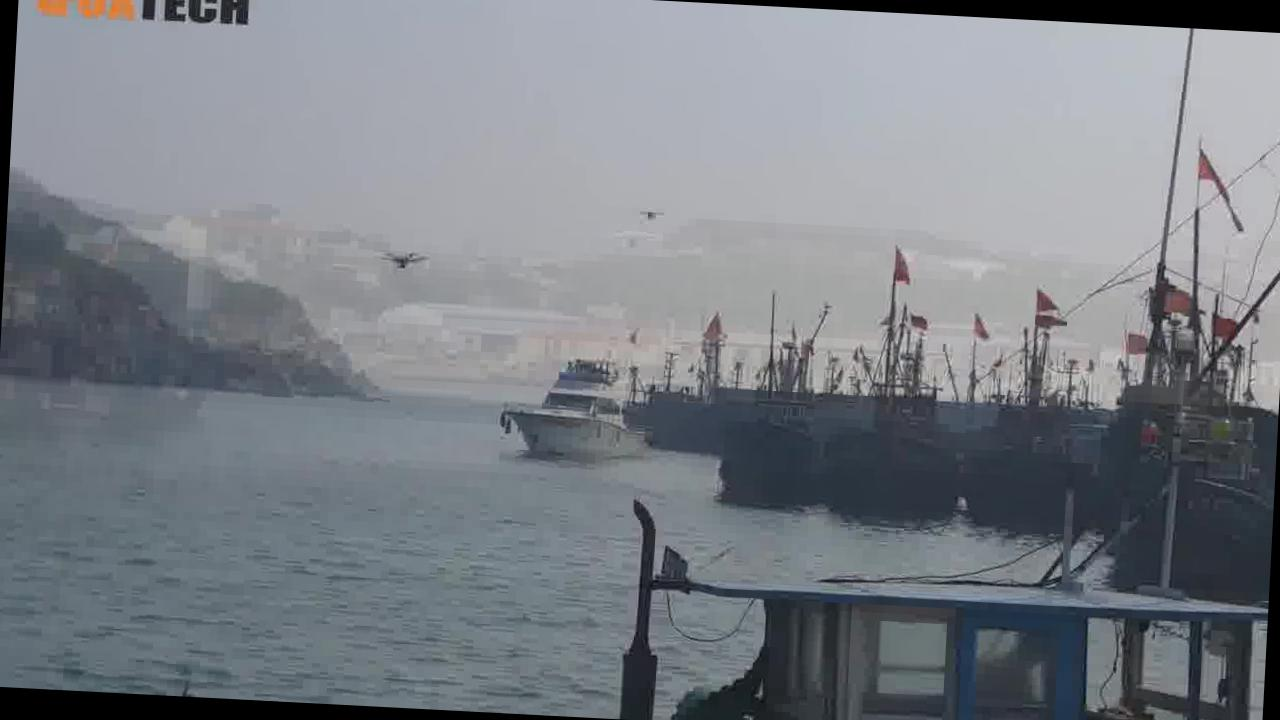drone: (380, 246, 428, 276)
